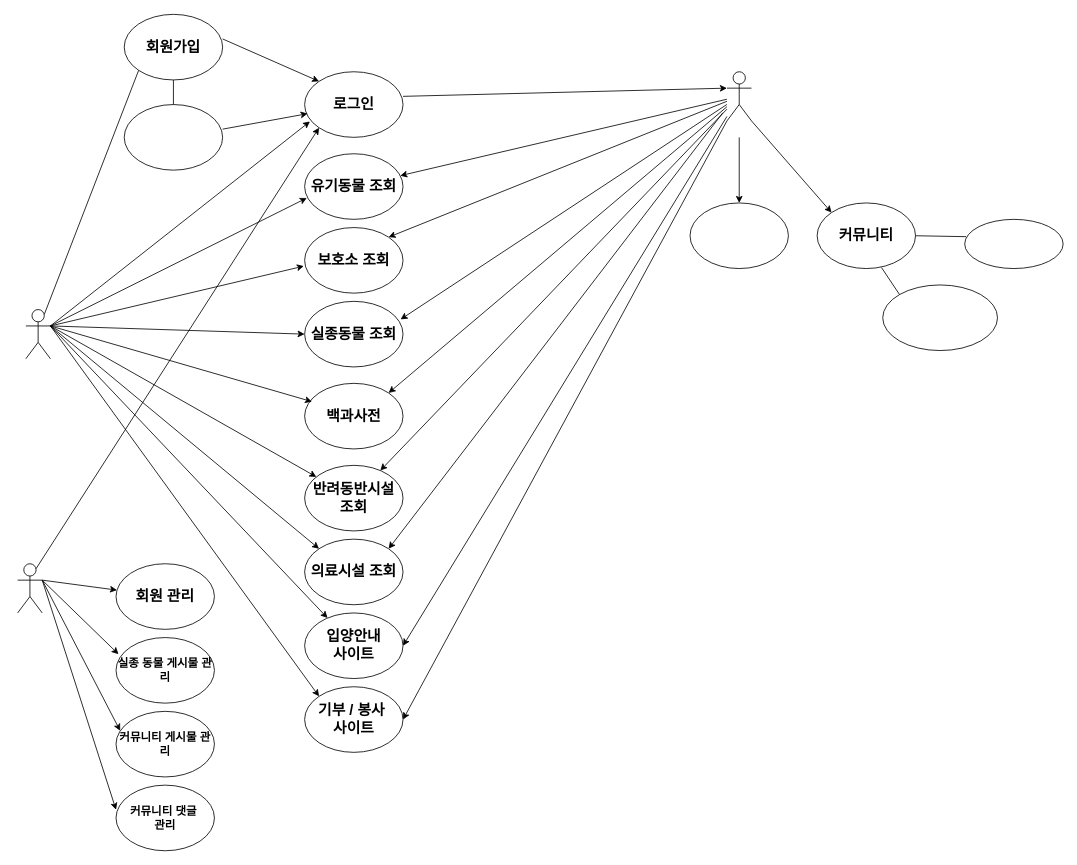
Some shapes in this 1077 by 865 pixel diagram are drawn without their labels. The shapes that lost their labels are listed below. From the top down, each one's box as (x1, y1, x2, y2) in pixels, then its label:
(726, 71, 752, 121): 회원
(123, 104, 223, 170): 아이디/비밀번호 찾기
(689, 202, 788, 269): 실종동물 등록
(964, 219, 1063, 269): 댓글 추가 / 삭제
(25, 309, 50, 359): 사용자
(882, 284, 998, 351): 게시물 등록 / 수정 / 삭제
(17, 563, 42, 613): 관리자
